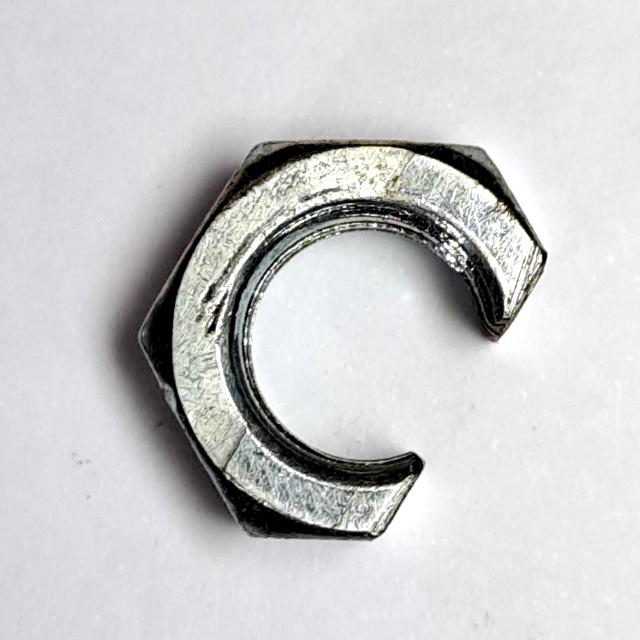Fracture: (128, 121, 553, 553)
